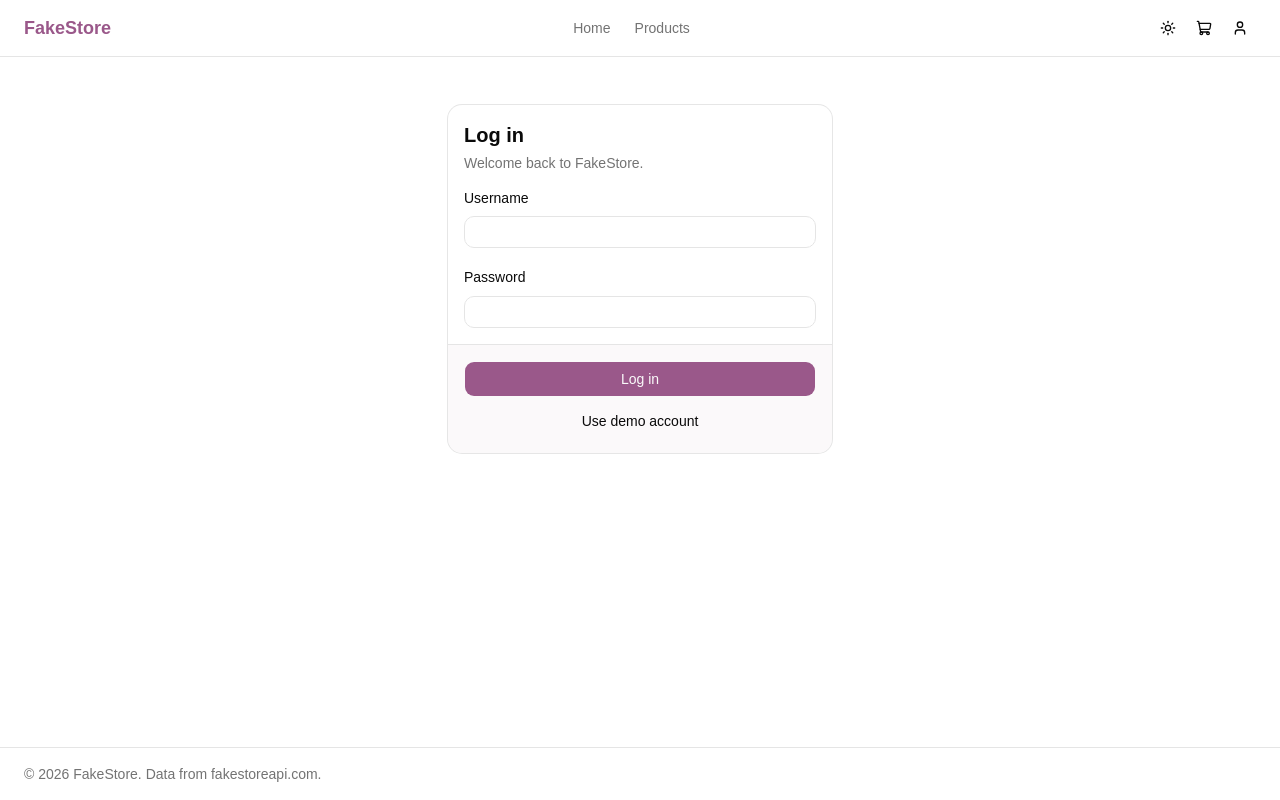
Test: LoginPage › shows a generic message when the server fails
Expected: the heading "Log in" is shown, x1=464 y1=124 x2=524 y2=146
Type "mor_2314" into the field labelled "Username" at (640, 232), box x1=464 y1=216 x2=816 y2=248
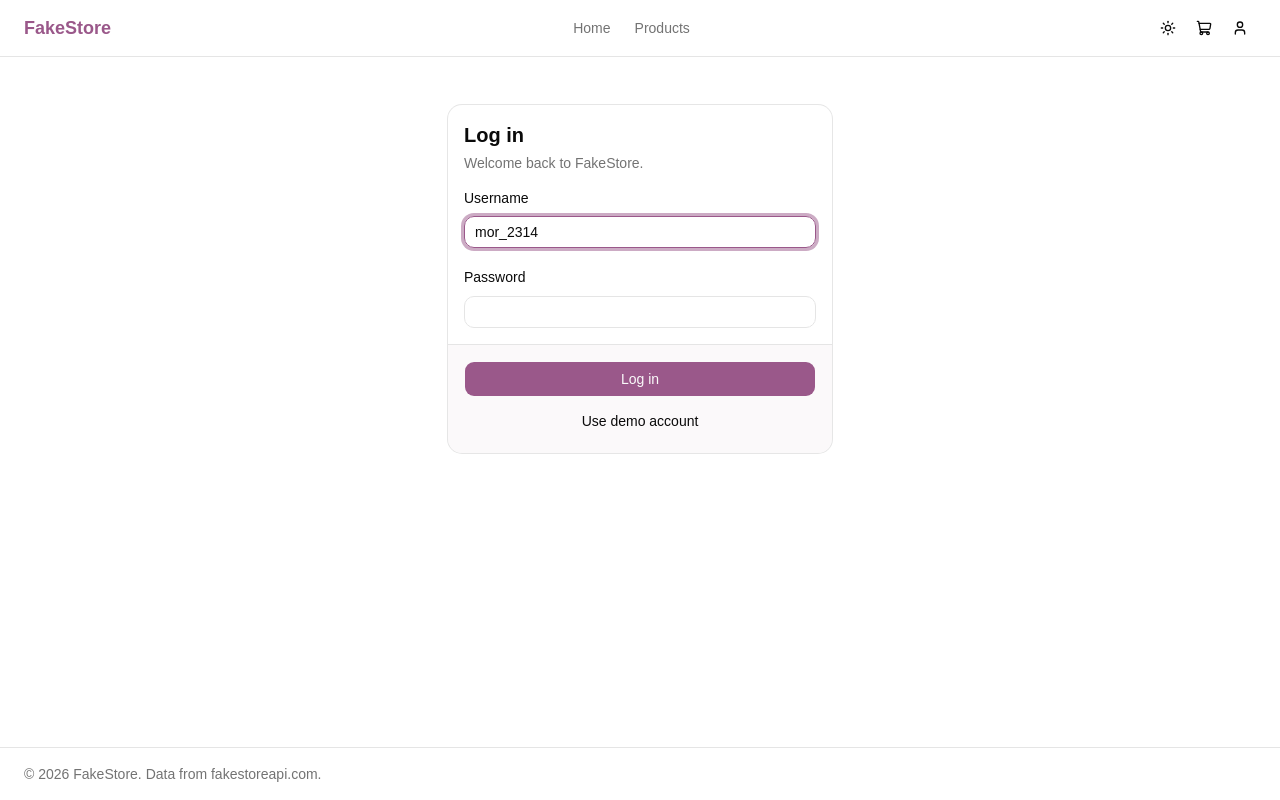
Type "83r5^_" into the password field labelled "Password" at (640, 312), box x1=464 y1=296 x2=816 y2=328
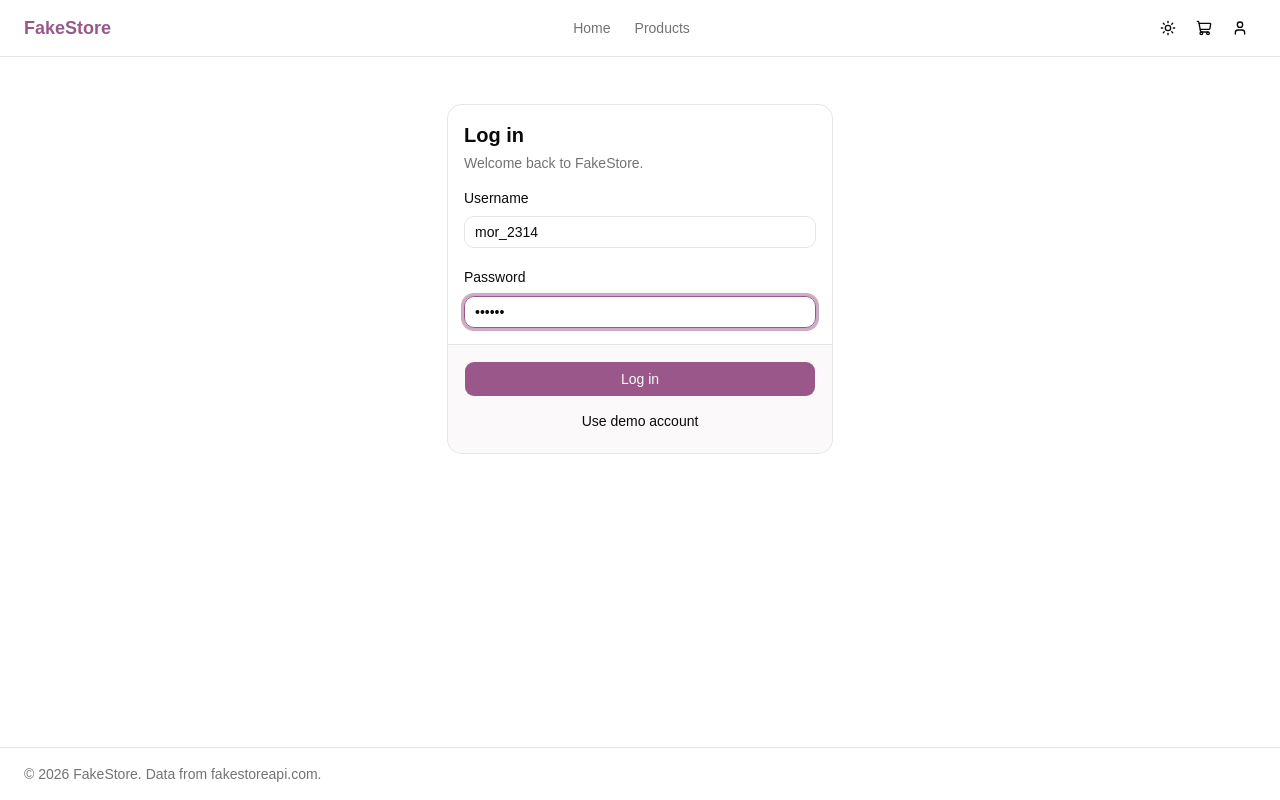
Click the button "Log in" at (640, 378), box x1=464 y1=360 x2=816 y2=396
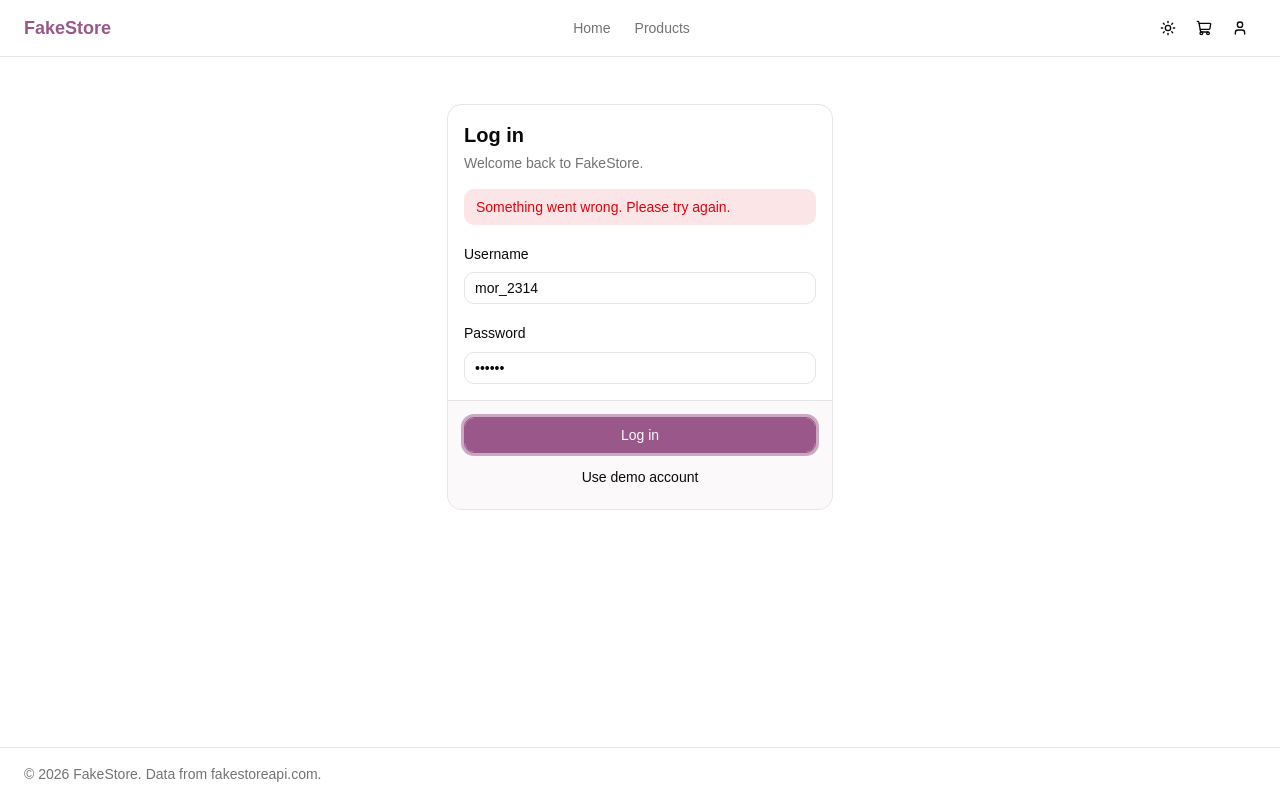
Result: the message shows "Something went wrong" at x1=476 y1=199 x2=730 y2=215
